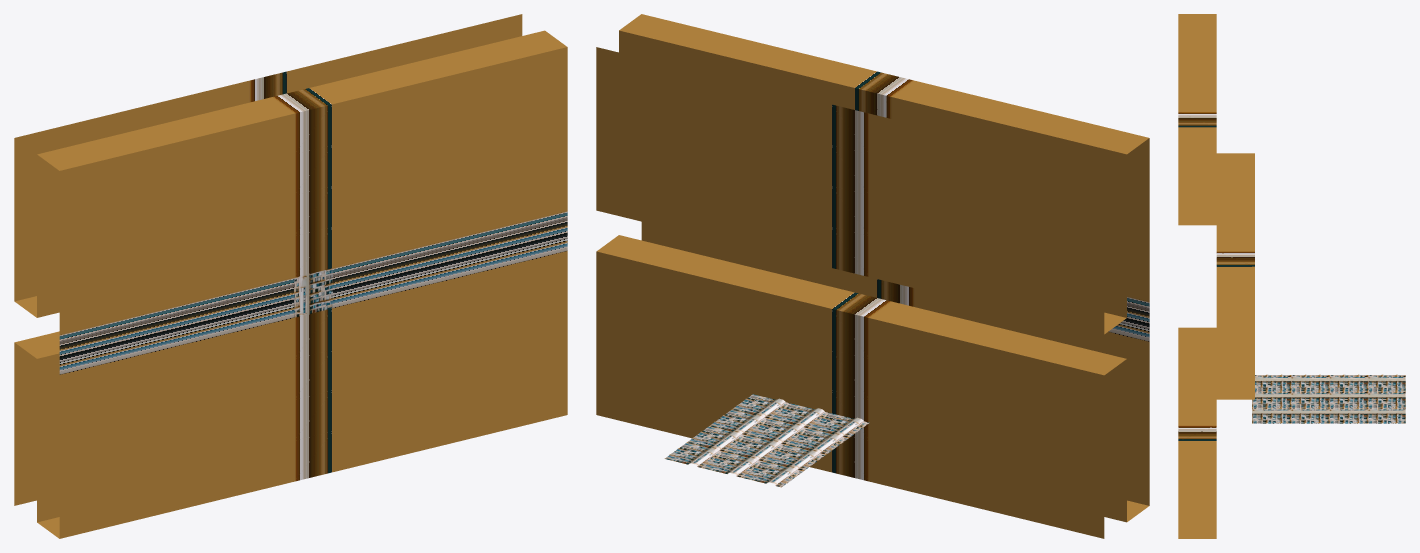
3 views of the same model, side by side, from view 1: azimuth 30°, elevation 25°; view 2: azimuth 150°, elevation 25°; view 3: azimuth 270°, elevation 25° (orthographic). The views are drawn at different scales.
Parts seen in each view (by area): view 1: Plane; view 2: Plane, Plane.001; view 3: Plane, Plane.001.
Part boxes in pixels (box(x1,y1,x2,y2)): Plane: box(14, 14, 567, 538); Plane: box(596, 14, 1149, 538); Plane.001: box(664, 394, 869, 487); Plane: box(1178, 14, 1254, 538); Plane.001: box(1252, 374, 1405, 423).
Bounding box in the file's own units: 390 × 177 × 270.
Materials: 1 (1 with a texture image).
